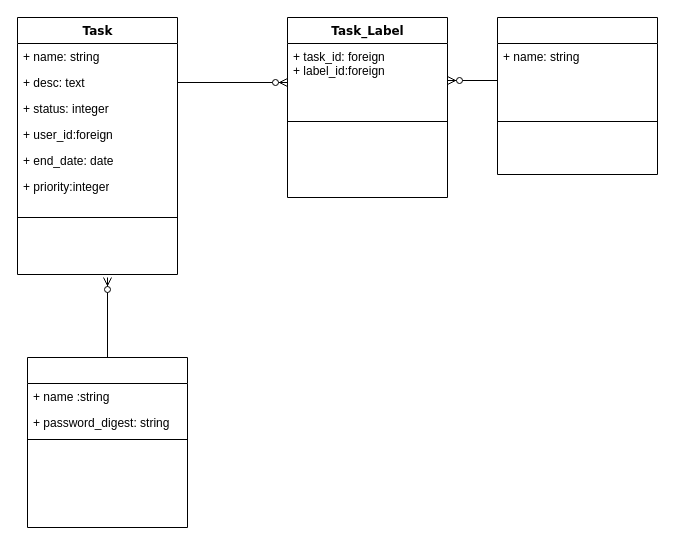
Some shapes in this 675 by 545 pixel diagram are drawn without their labels. The shapes that lost their labels are listed below. From the top down, each one's box as (x1, y1, x2, y2) in pixels, then its label:
(496, 16, 658, 174): Label
(26, 356, 188, 528): User
